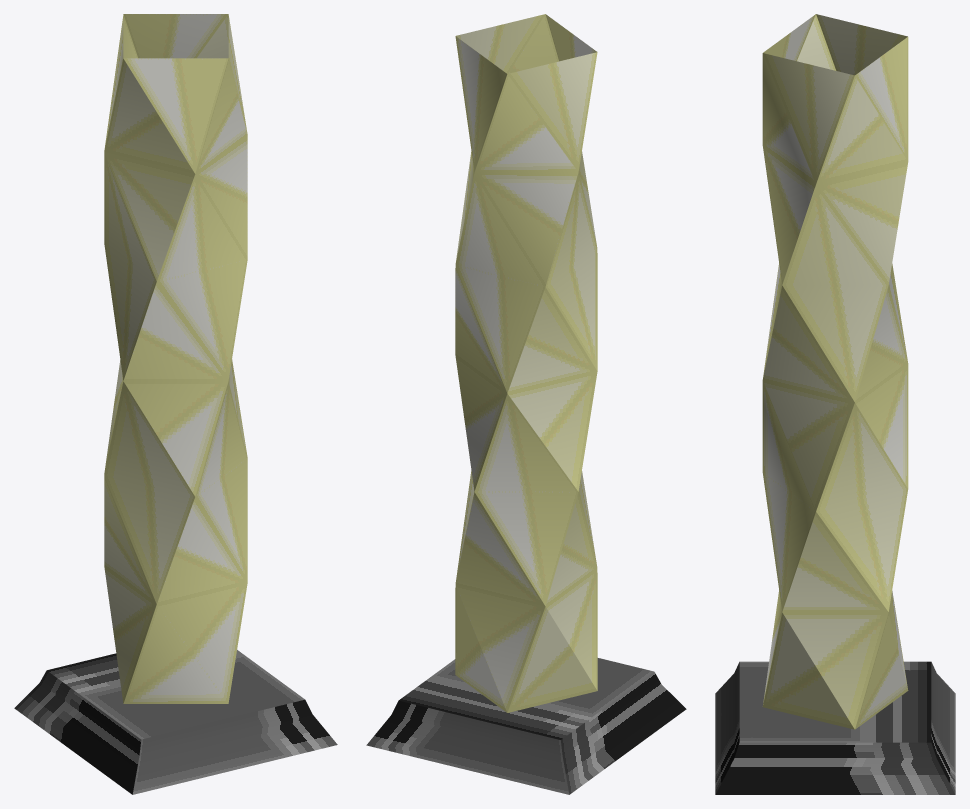
3 views of the same model, side by side, from view 1: azimuth 30°, elevation 25°; view 2: azimuth 150°, elevation 25°; view 3: azimuth 270°, elevation 25° (orthographic). The views are drawn at different scales.
Visible parts, largest first — view 1: 3896kg3_shp18; view 2: 3896kg3_shp18; view 3: 3896kg3_shp18.
Part boxes in pixels (<box>): 3896kg3_shp18: <box>14,14,337,794</box>; 3896kg3_shp18: <box>366,14,686,794</box>; 3896kg3_shp18: <box>715,14,955,794</box>.
Bounding box in the file's own units: 0.5366 × 1.72 × 0.5366.
3 materials, 3 textured.
